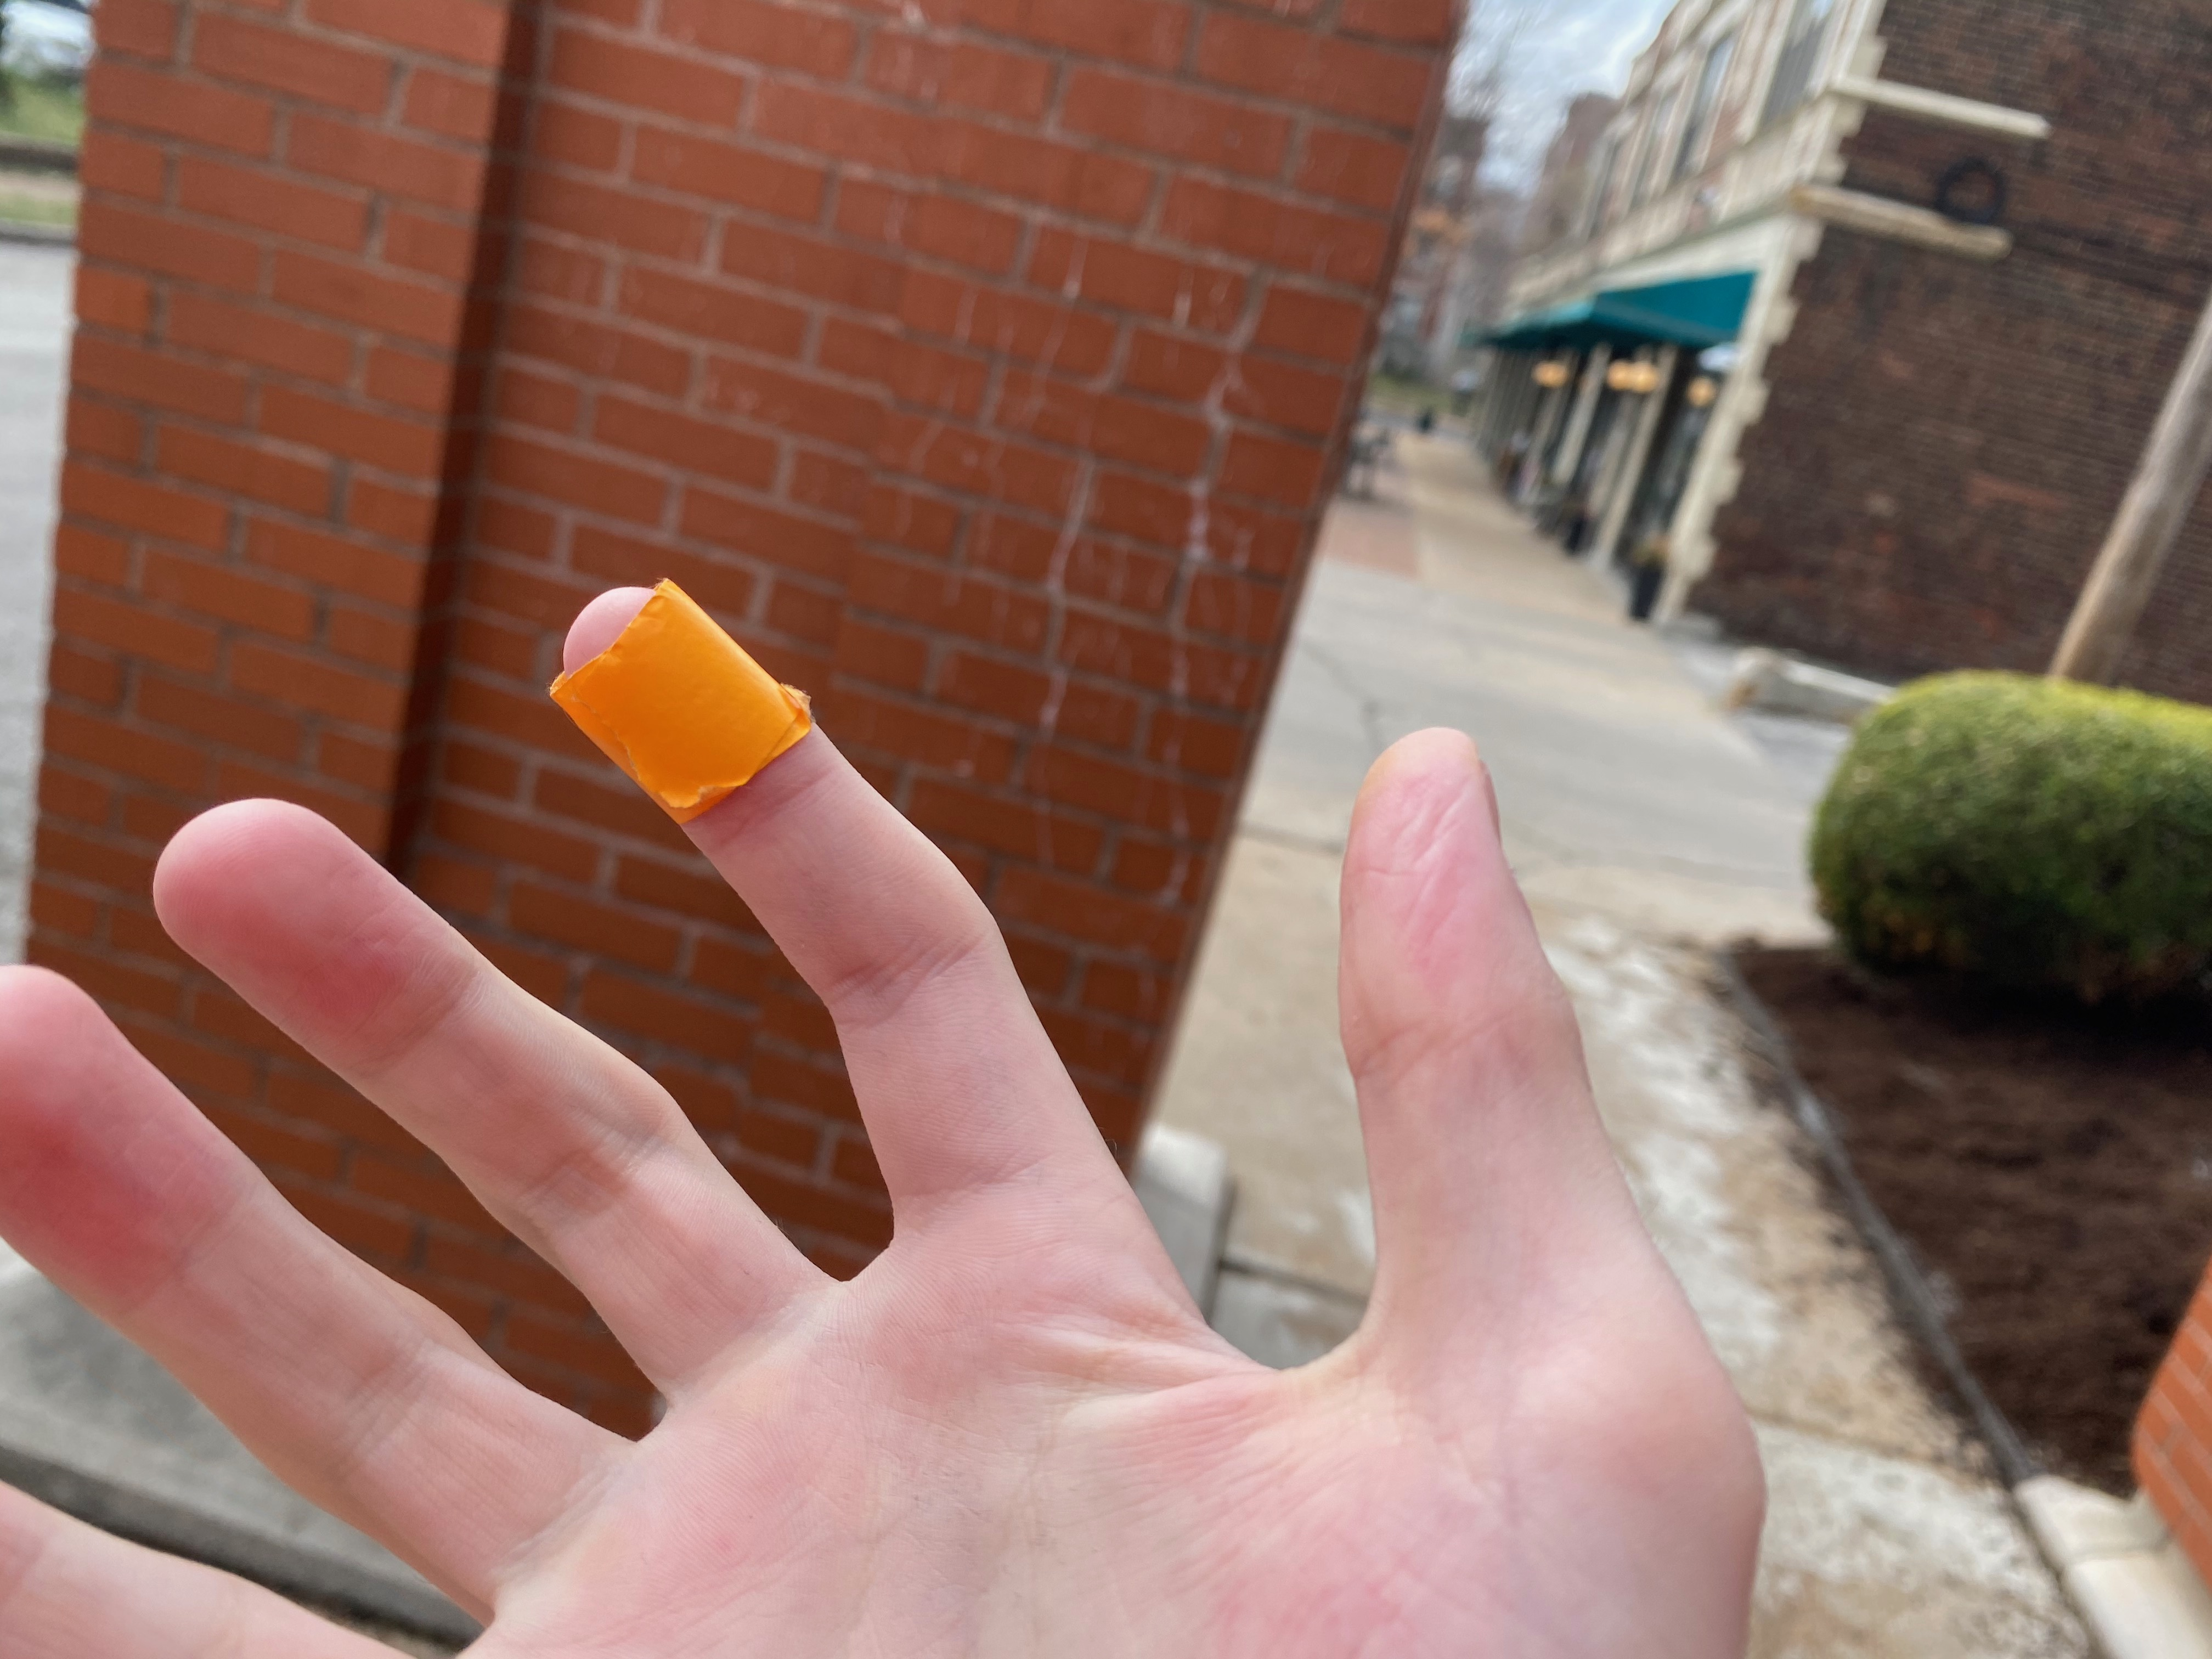fingertip: (524, 565, 846, 840)
